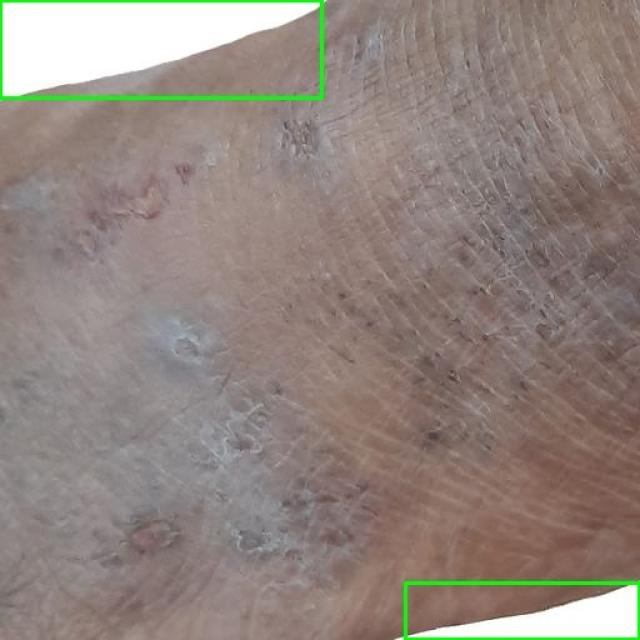Contact Dermatitis: (0, 0, 321, 98), (405, 582, 639, 639)
